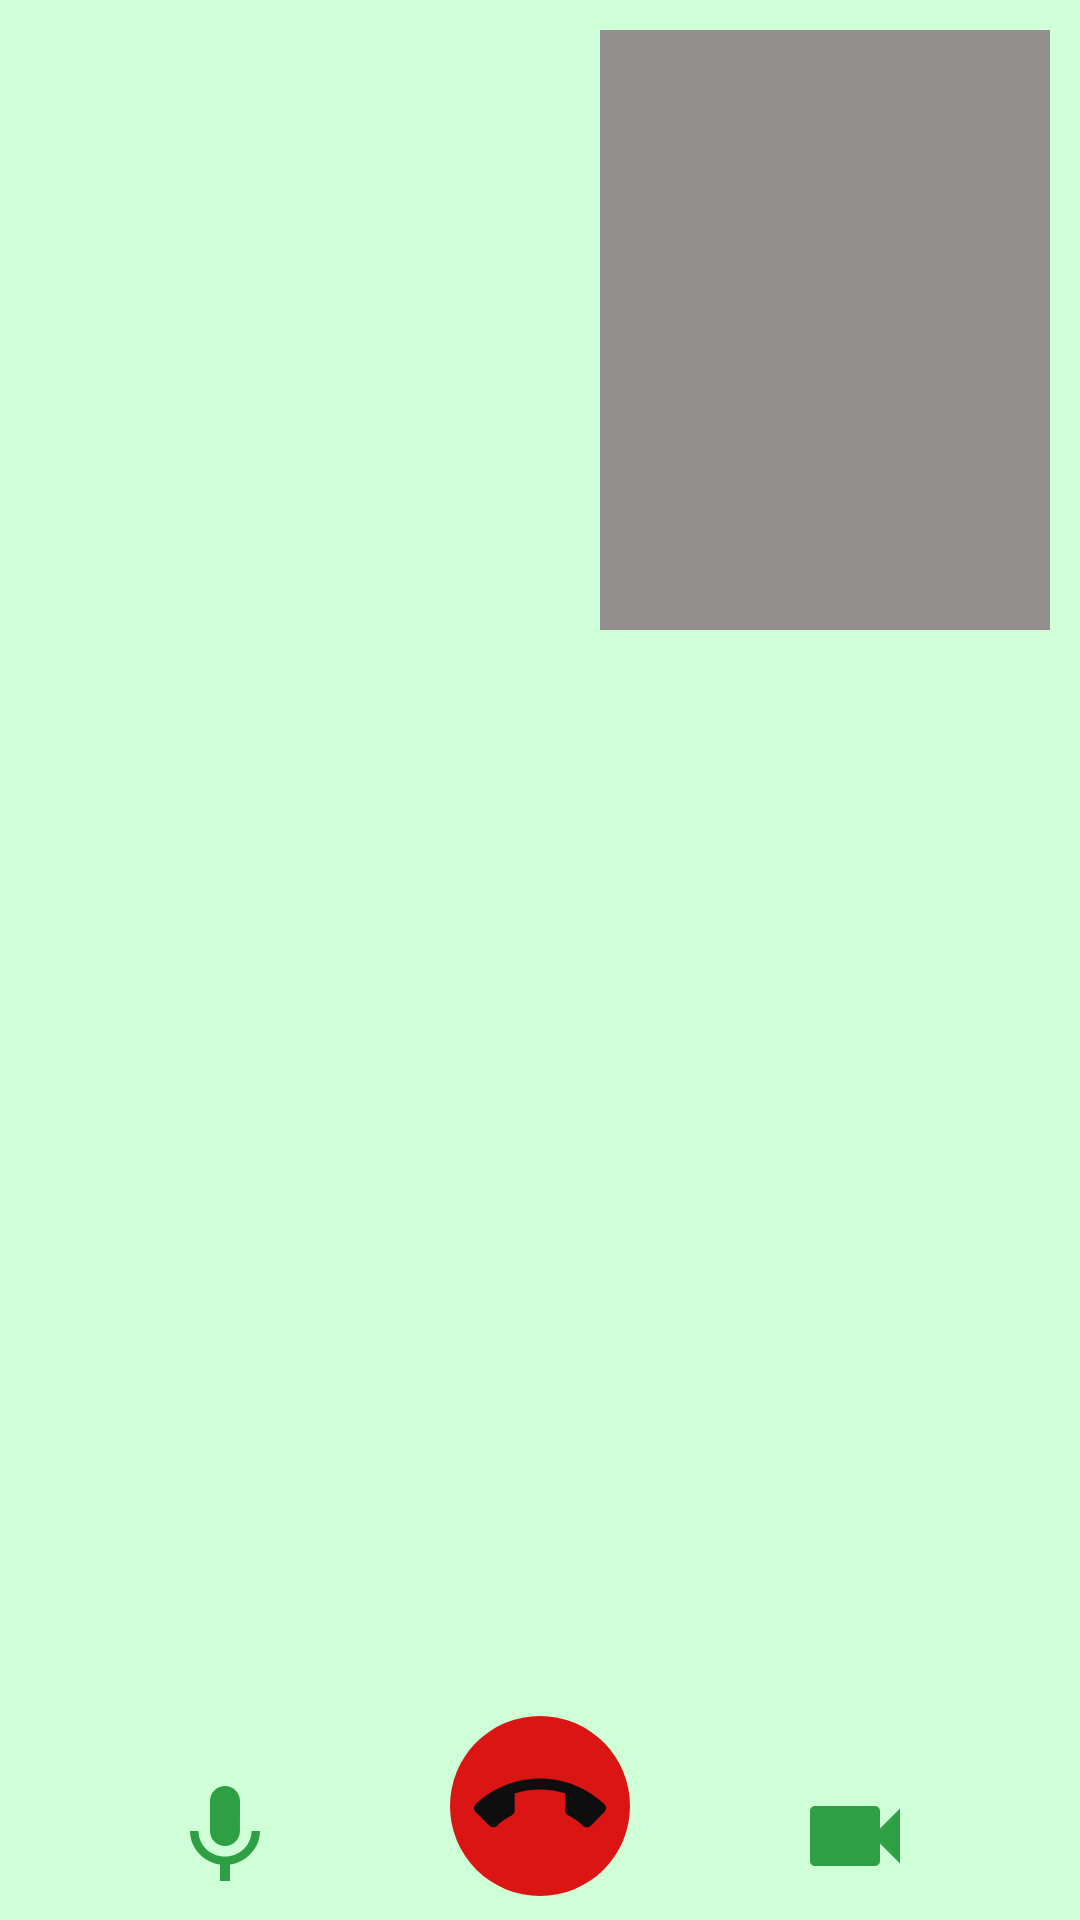

Icon bounding boxes for this 1080 × 1920 phone screenshot, format (x1, y1, x2, y2):
call end: (450, 1716, 630, 1896)
mic: (190, 1786, 260, 1881)
videocam: (810, 1806, 900, 1866)
